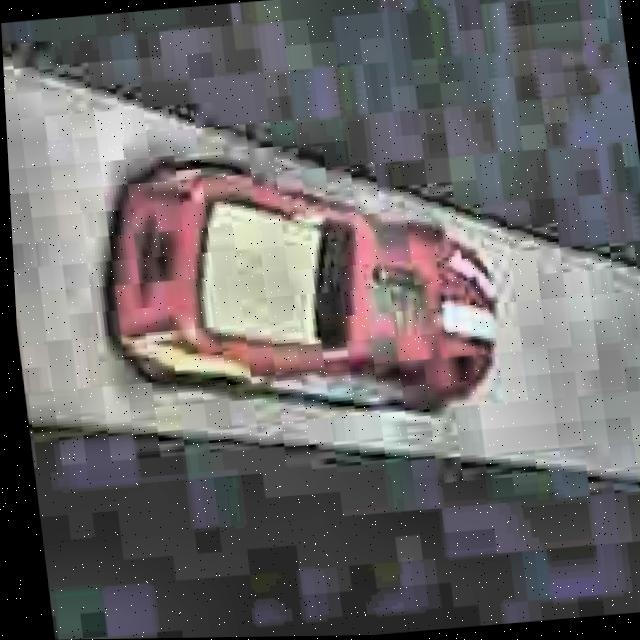car: (79, 132, 517, 444)
